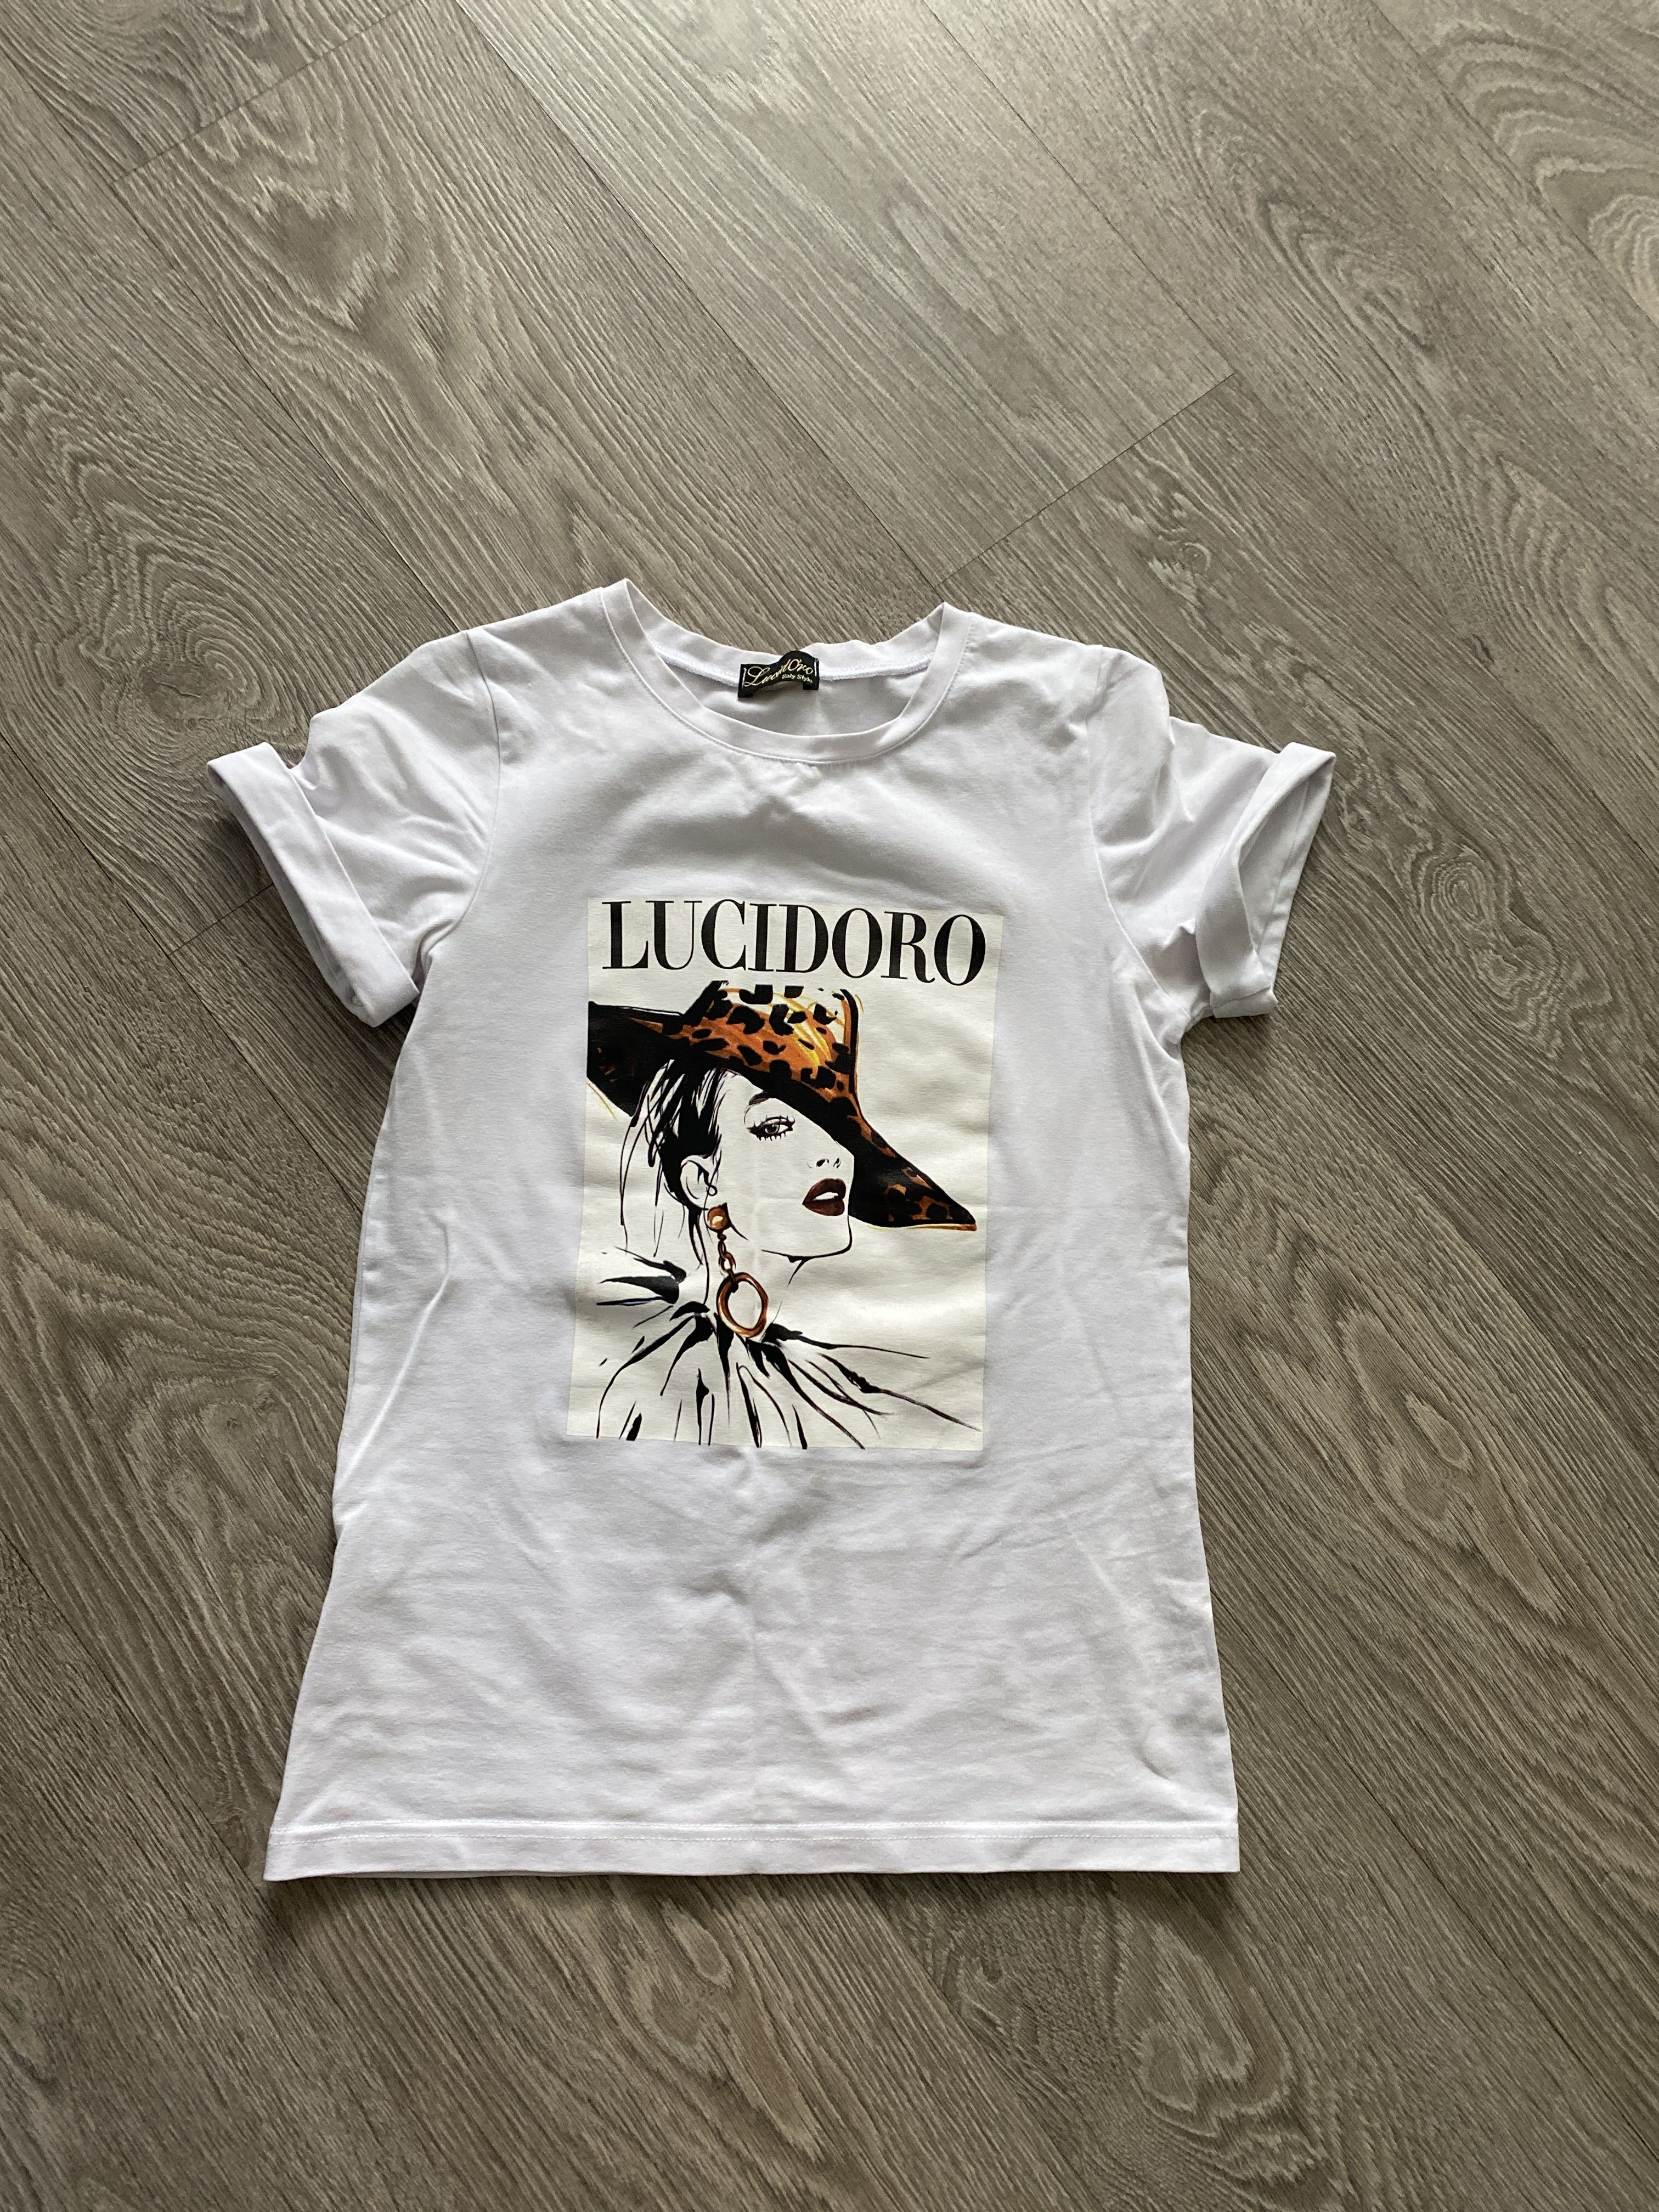clothes: (192, 585, 1324, 1858)
